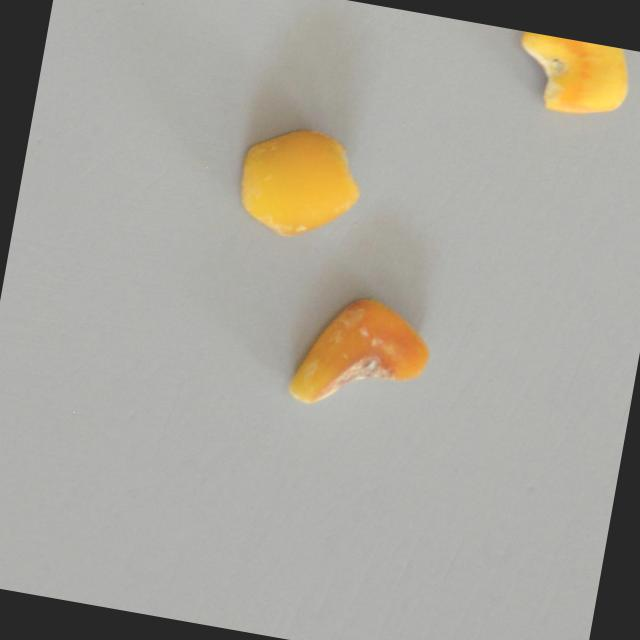dañado: (282, 281, 440, 428), (225, 113, 375, 252), (501, 29, 636, 127)
